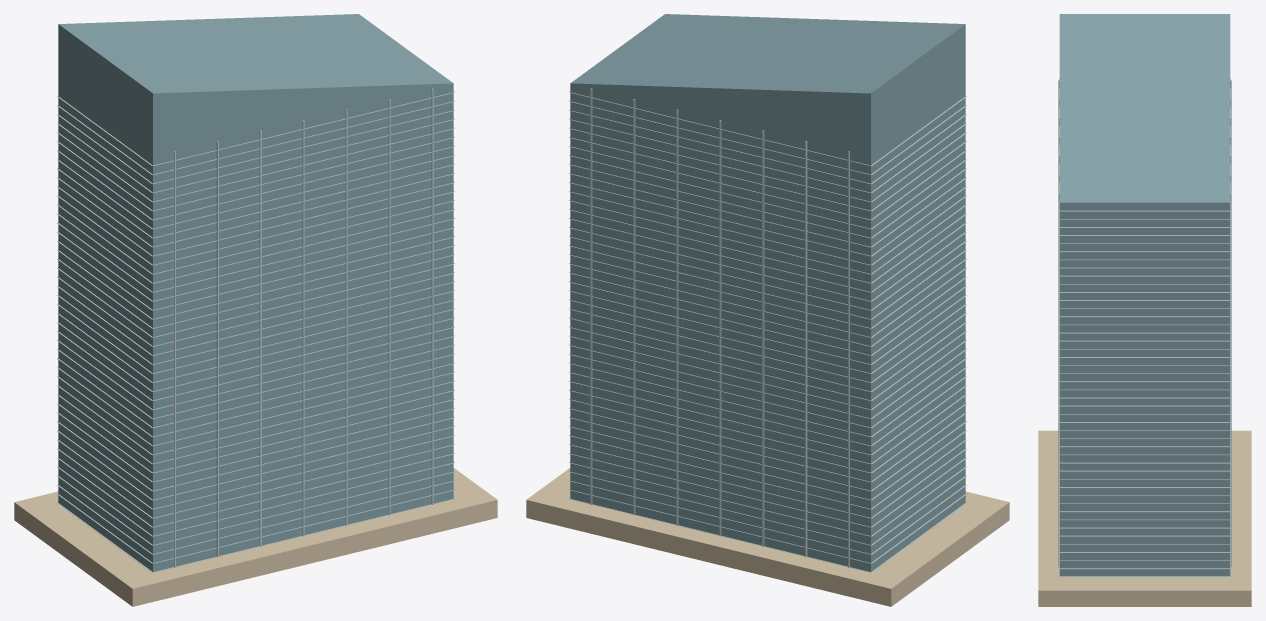
The model's file is citigroup-tower.glb.
3 views of the same model, side by side, from view 1: azimuth 30°, elevation 25°; view 2: azimuth 150°, elevation 25°; view 3: azimuth 270°, elevation 25° (orthographic). The views are drawn at different scales.
Parts seen in each view (by area): view 1: citigroup-tower; view 2: citigroup-tower; view 3: citigroup-tower.
Boxes of the visible parts, x1,y1,x2,y2 form: citigroup-tower: (14, 14, 497, 606); citigroup-tower: (526, 14, 1009, 606); citigroup-tower: (1038, 14, 1251, 606).
Size of the model in its own units: 110 by 143 by 61.72.
